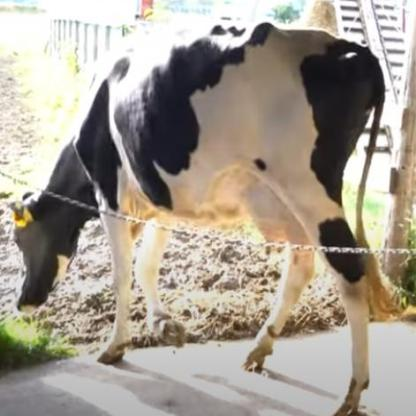cow: (0, 22, 402, 416)
